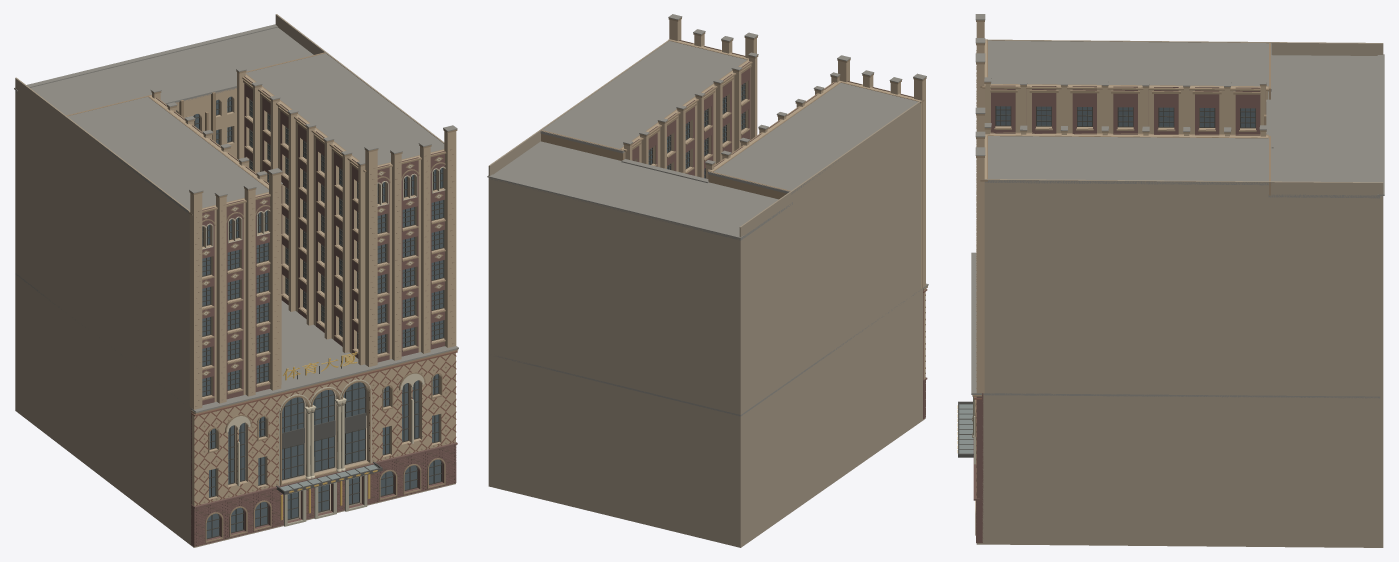
File: huangpu-foreign-ymca-raw.glb
3 renders of one model, left to right at view 1: azimuth 30°, elevation 25°; view 2: azimuth 150°, elevation 25°; view 3: azimuth 270°, elevation 25°, orthographic. The views are drawn at different scales.
Visible parts, largest first — view 1: 西侨青年会（上海体育大厦临街主楼）; view 2: 西侨青年会（上海体育大厦临街主楼）; view 3: 西侨青年会（上海体育大厦临街主楼）.
Boxes of the visible parts, left/top/right/bottom form: 西侨青年会（上海体育大厦临街主楼）: left=14, top=14, right=458, bottom=547; 西侨青年会（上海体育大厦临街主楼）: left=487, top=14, right=928, bottom=547; 西侨青年会（上海体育大厦临街主楼）: left=957, top=14, right=1384, bottom=547.
Bounding box in the file's own units: 27.72 × 34.91 × 34.66.
